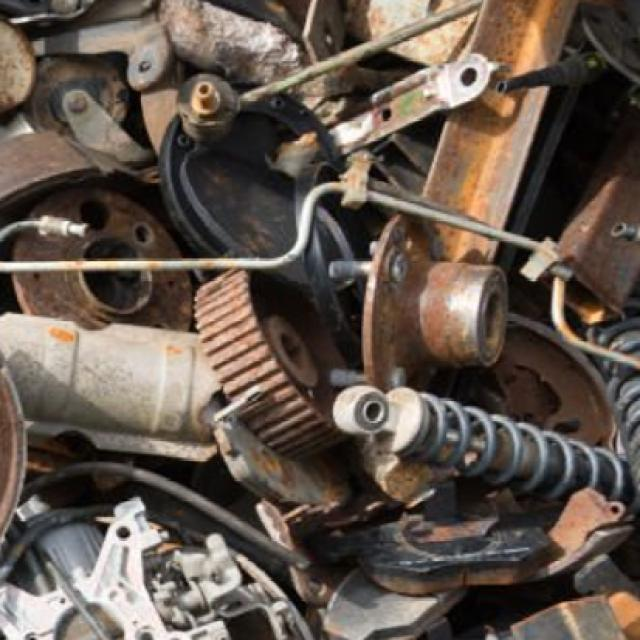shock absorber: (332, 385, 638, 509)
